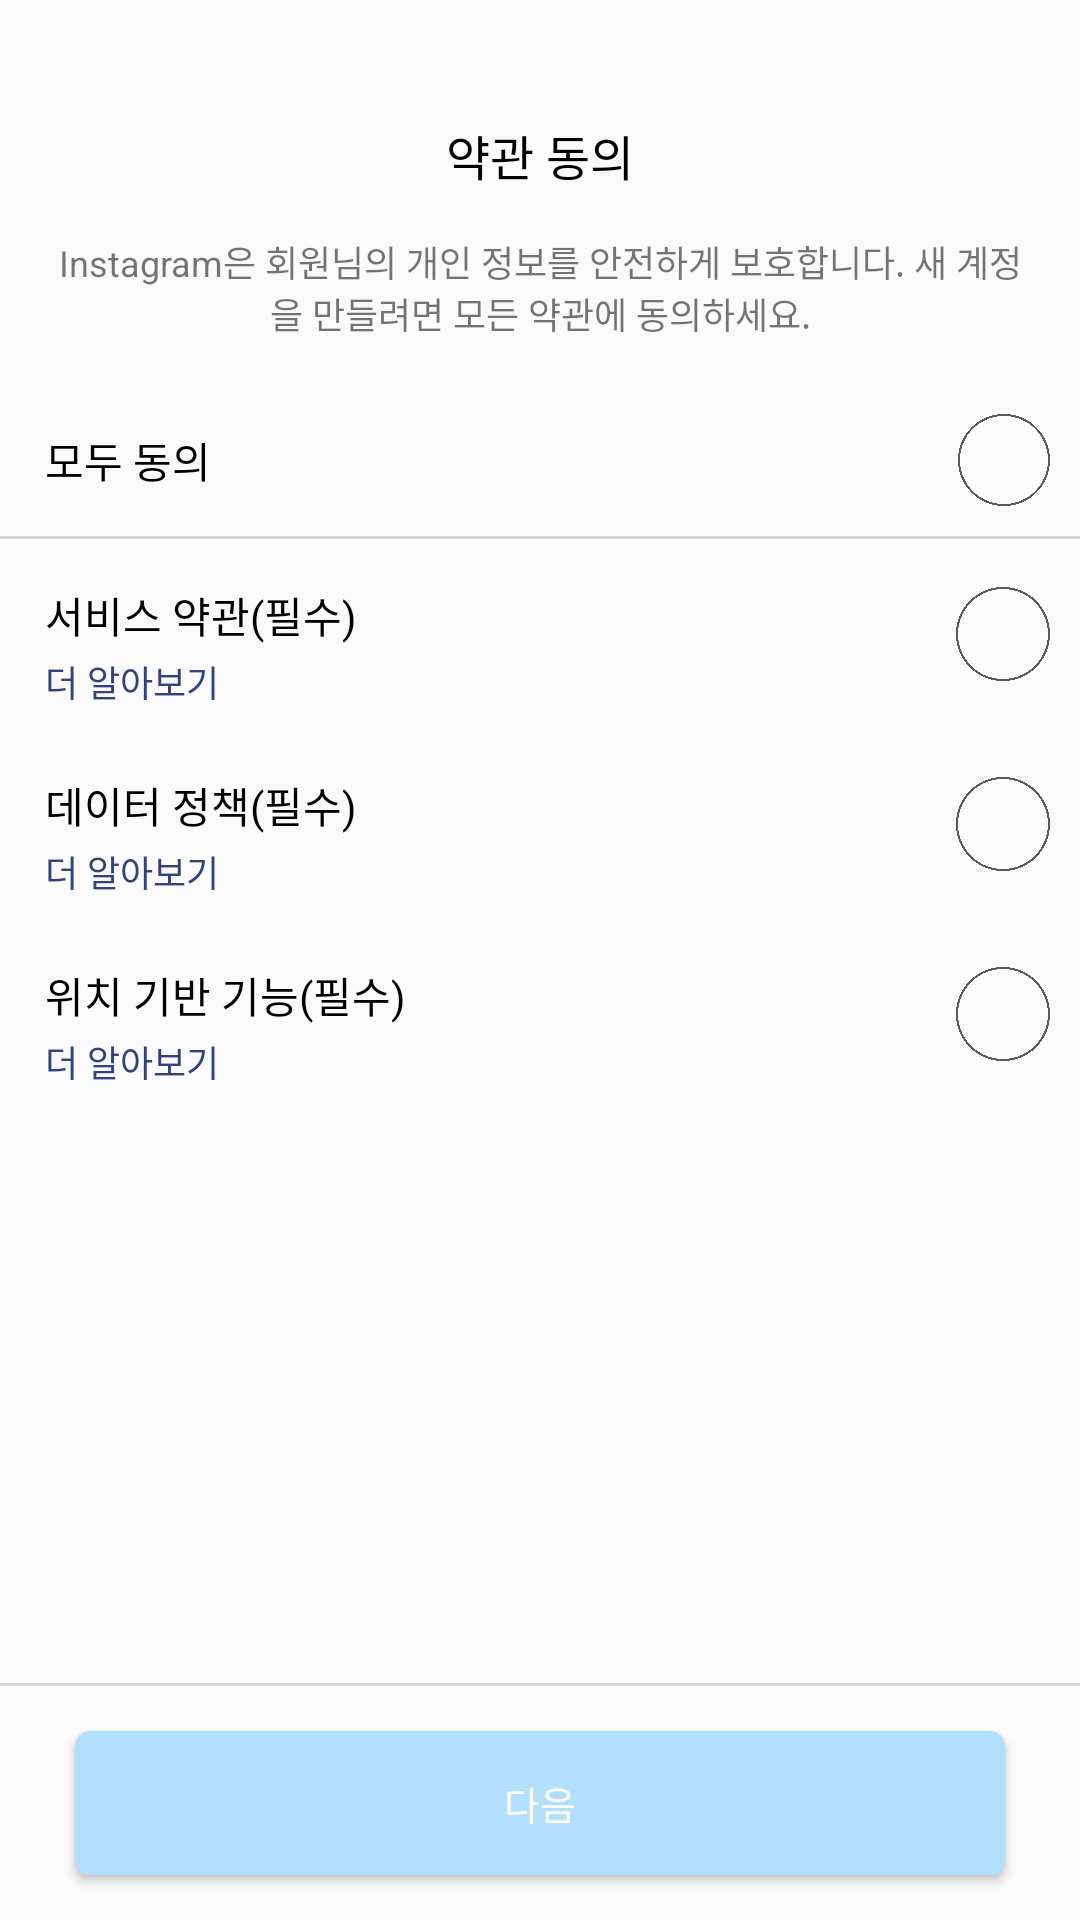

Locate icon controls on the screen. Image size 1080×1920, boxes as (x1, y1, x2, y2).
signup agree uncheck: (958, 414, 1050, 506), (956, 587, 1050, 681), (956, 777, 1050, 871), (956, 967, 1050, 1061)
